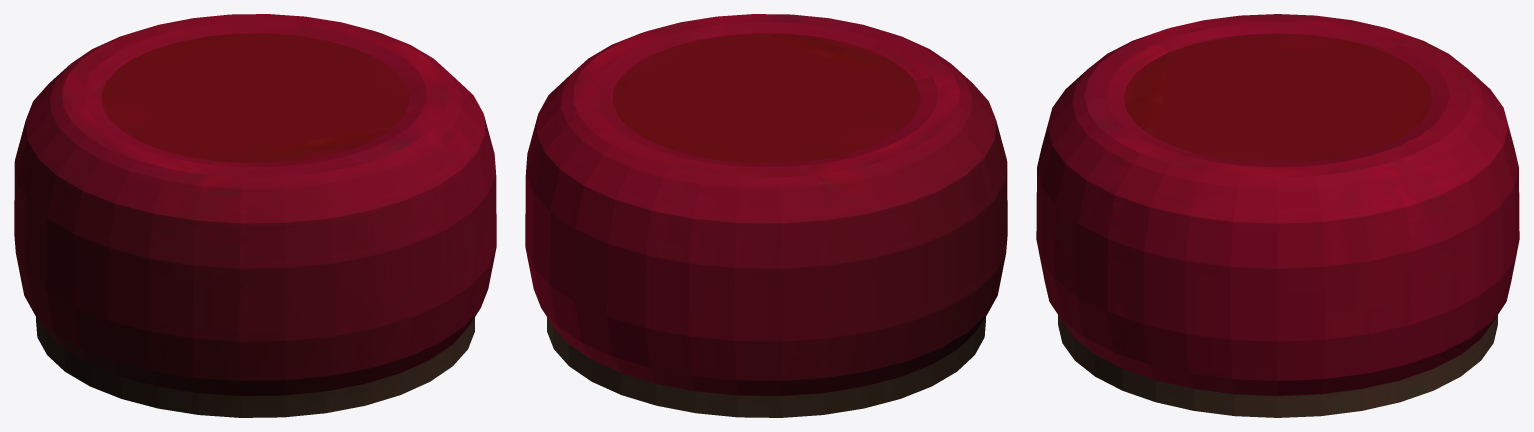
The model's file is Pouf.fbx.
3 renders of one model, left to right at view 1: azimuth 30°, elevation 25°; view 2: azimuth 150°, elevation 25°; view 3: azimuth 270°, elevation 25°, orthographic.
Visible parts, largest first — view 1: Cylinder.001; view 2: Cylinder.001; view 3: Cylinder.001.
Boxes of the visible parts, bbox=[...] form: Cylinder.001: bbox=[14, 14, 496, 417]; Cylinder.001: bbox=[525, 14, 1007, 417]; Cylinder.001: bbox=[1036, 14, 1519, 417].
Size of the model in its own units: 220 by 115 by 220.
Materials: 1 (1 with a texture image).
